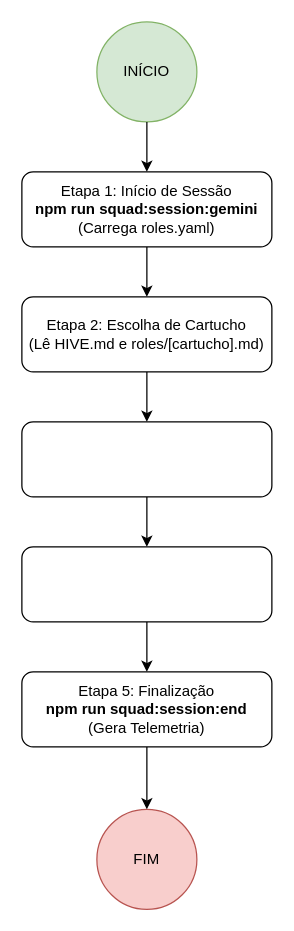
This 294x931 diagram has some shape labels left out. Here are the shapes that lost their labels. From the top down, the centre of each, then its label:
[146,459]: Etapa 3: Triagem de Inbox (Lê inbox-gemini.md)
[146,584]: Etapa 4: Execução (Gera Blueprints / Planejamento)
